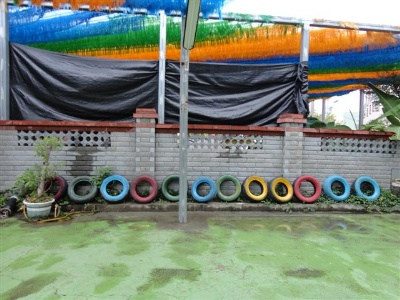tire: (161, 173, 190, 203), (293, 174, 322, 204), (352, 175, 382, 204), (322, 174, 351, 203), (101, 174, 129, 204), (129, 175, 159, 202), (66, 175, 97, 201), (243, 175, 270, 203), (191, 176, 218, 203), (215, 174, 242, 201), (269, 176, 294, 204)
